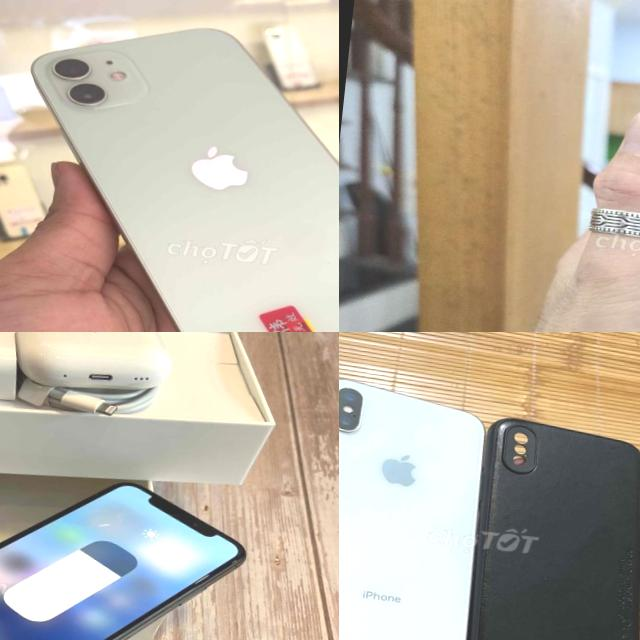gen_15: (0, 7, 339, 332)
gen_x_xs: (0, 453, 253, 640), (339, 378, 482, 640)
